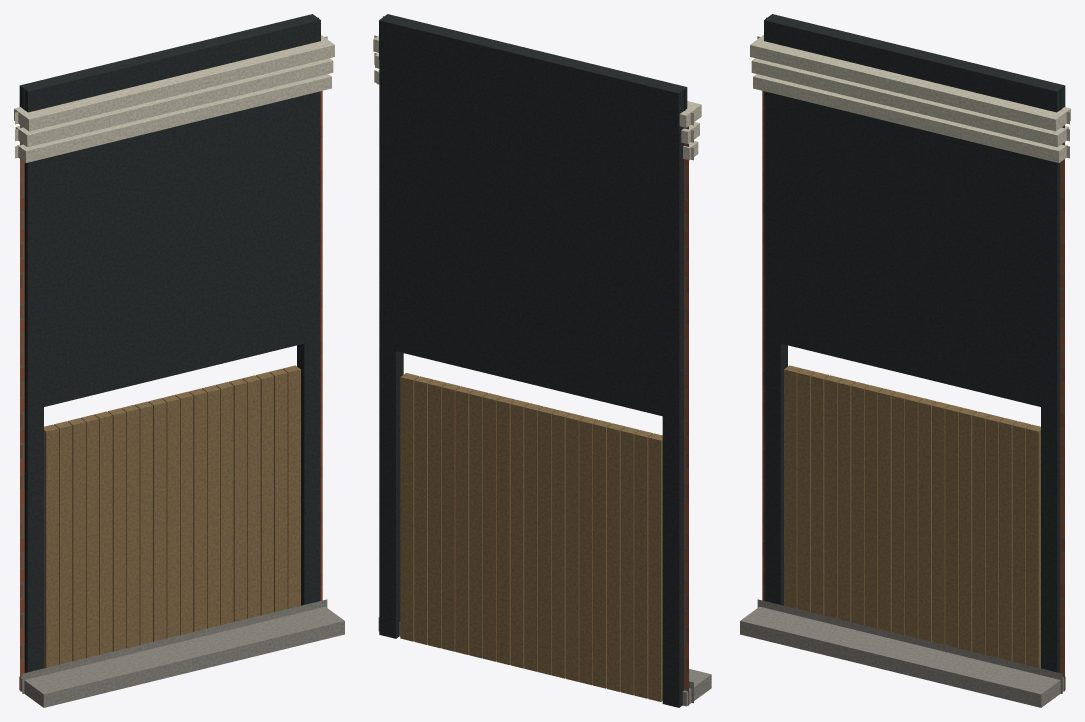
File: WRHS5_lod2.glb
3 views of the same model, side by side, from view 1: azimuth 30°, elevation 25°; view 2: azimuth 150°, elevation 25°; view 3: azimuth 330°, elevation 25° (orthographic). The views are drawn at different scales.
Visible parts, largest first — view 1: WRHS5_FRONT_LOD2; view 2: WRHS5_FRONT_LOD2; view 3: WRHS5_FRONT_LOD2.
Boxes of the visible parts, <box> form: WRHS5_FRONT_LOD2: <box>14,14,344,707</box>; WRHS5_FRONT_LOD2: <box>373,14,711,707</box>; WRHS5_FRONT_LOD2: <box>740,14,1070,707</box>.
Size of the model in its own units: 3.84 by 7.05 by 0.6.
Materials: 6 (6 with a texture image).
